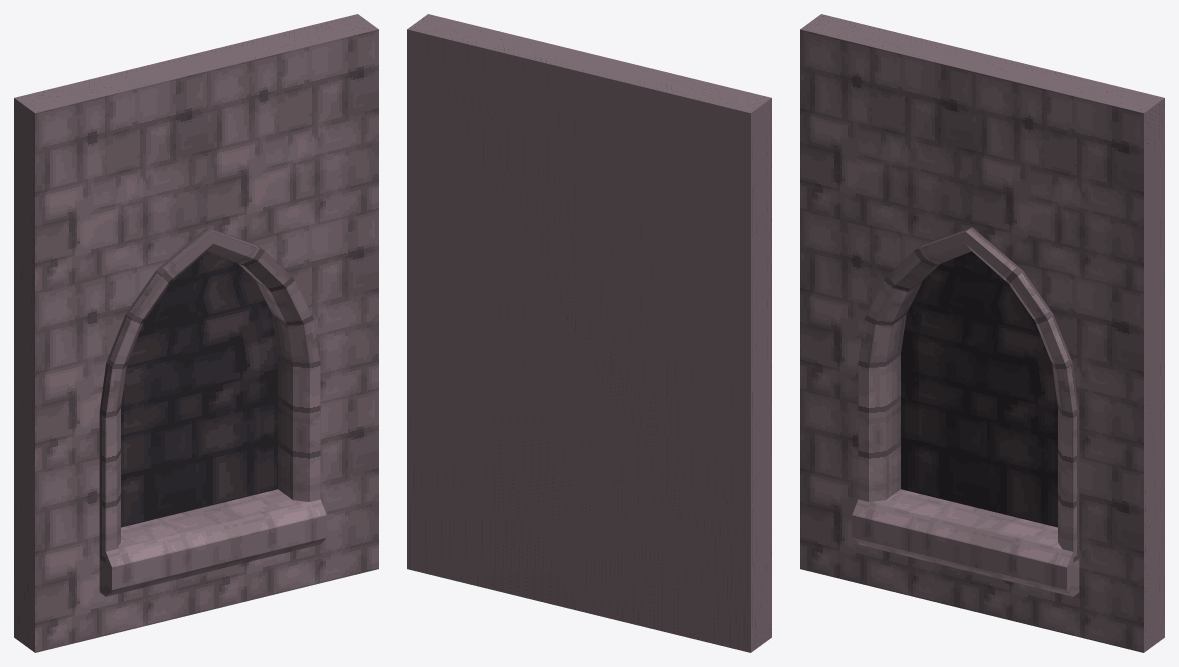
Rendered from wandnische_t15_c.glb.
The picture shows the model from 3 angles, left to right: view 1: azimuth 30°, elevation 25°; view 2: azimuth 150°, elevation 25°; view 3: azimuth 330°, elevation 25°; orthographic projection.
Visible parts, largest first — view 1: platte, gewaende, sohlbank; view 2: platte; view 3: platte, gewaende, sohlbank.
Part boxes in pixels (left/top/right/bottom): platte: left=14, top=14, right=378, bottom=652; gewaende: left=99, top=227, right=320, bottom=562; sohlbank: left=99, top=489, right=326, bottom=596; platte: left=407, top=14, right=771, bottom=652; platte: left=800, top=14, right=1164, bottom=652; gewaende: left=858, top=227, right=1079, bottom=562; sohlbank: left=852, top=489, right=1079, bottom=596.
Size of the model in its own units: 2 by 3 by 0.3375.
Materials: 1 (1 with a texture image).
